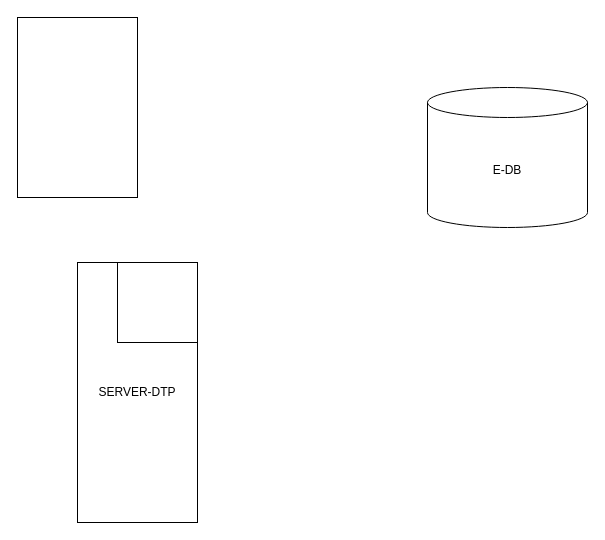
The diagram is 605 pixels wide and 540 high, and some of its shapes have lost their labels. Each missing label, with the centre of its shape:
"DTP-LB" goes at point 77,107.
"E-DB LIB" goes at point 157,302.
